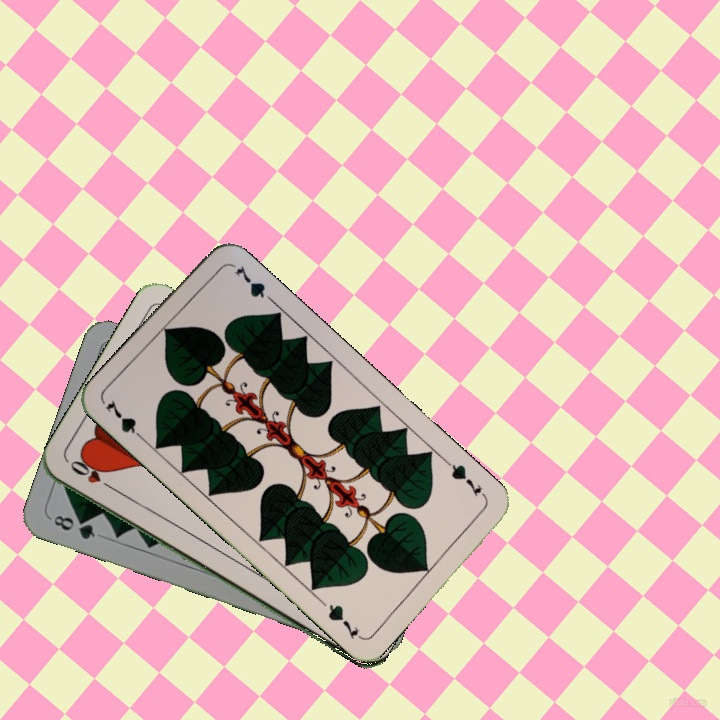G7: (101, 395, 149, 445), (442, 457, 490, 502)
G8: (49, 511, 98, 542)
HO: (66, 456, 118, 494)
